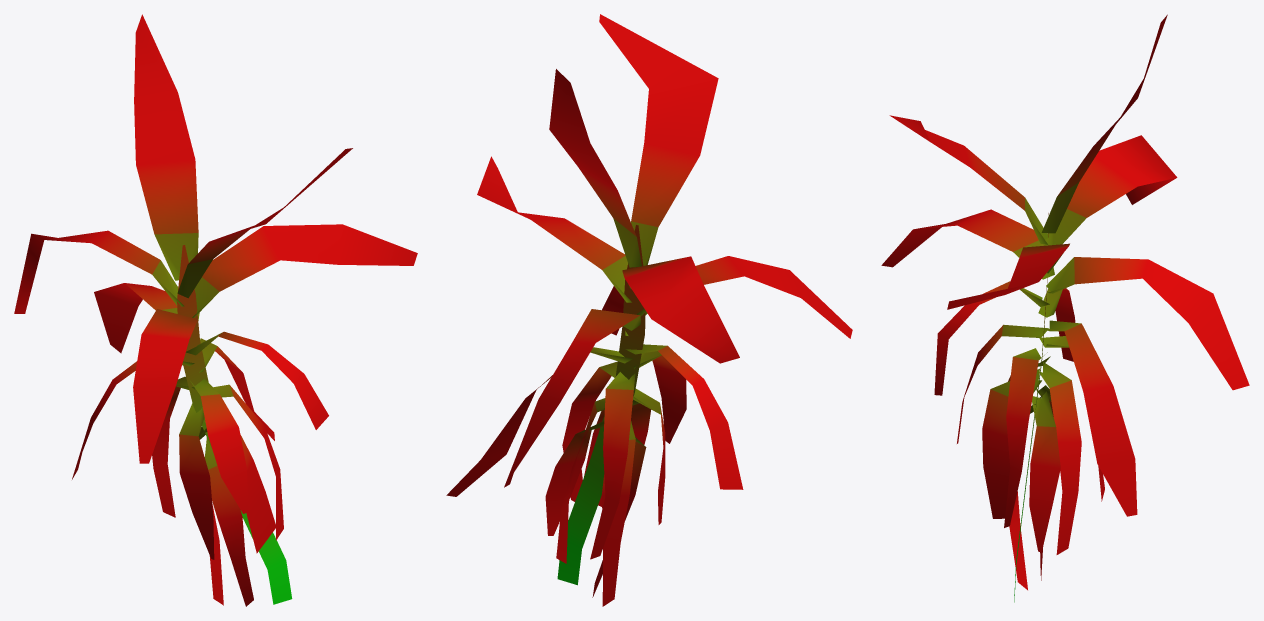
The model's file is Dragon Tree_LOD2_Var4_sikoN.fbx.
The picture shows the model from 3 angles, left to right: view 1: azimuth 30°, elevation 25°; view 2: azimuth 150°, elevation 25°; view 3: azimuth 270°, elevation 25°; orthographic projection. The views are drawn at different scales.
Visible parts, largest first — view 1: _a053_Var4_LOD2; view 2: _a053_Var4_LOD2; view 3: _a053_Var4_LOD2.
Part boxes in pixels (x1,y1,x2,y2): _a053_Var4_LOD2: (14, 14, 417, 606); _a053_Var4_LOD2: (446, 14, 852, 606); _a053_Var4_LOD2: (881, 14, 1249, 602).
Size of the model in its own units: 35.75 by 59.3 by 35.4.
